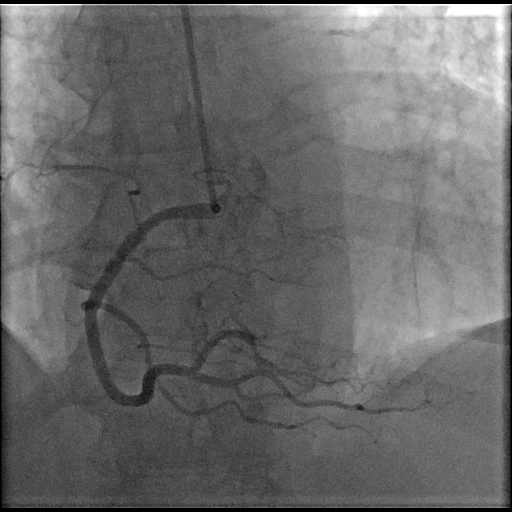RCA: (83, 204, 430, 440)
catherter: (180, 5, 220, 213)
